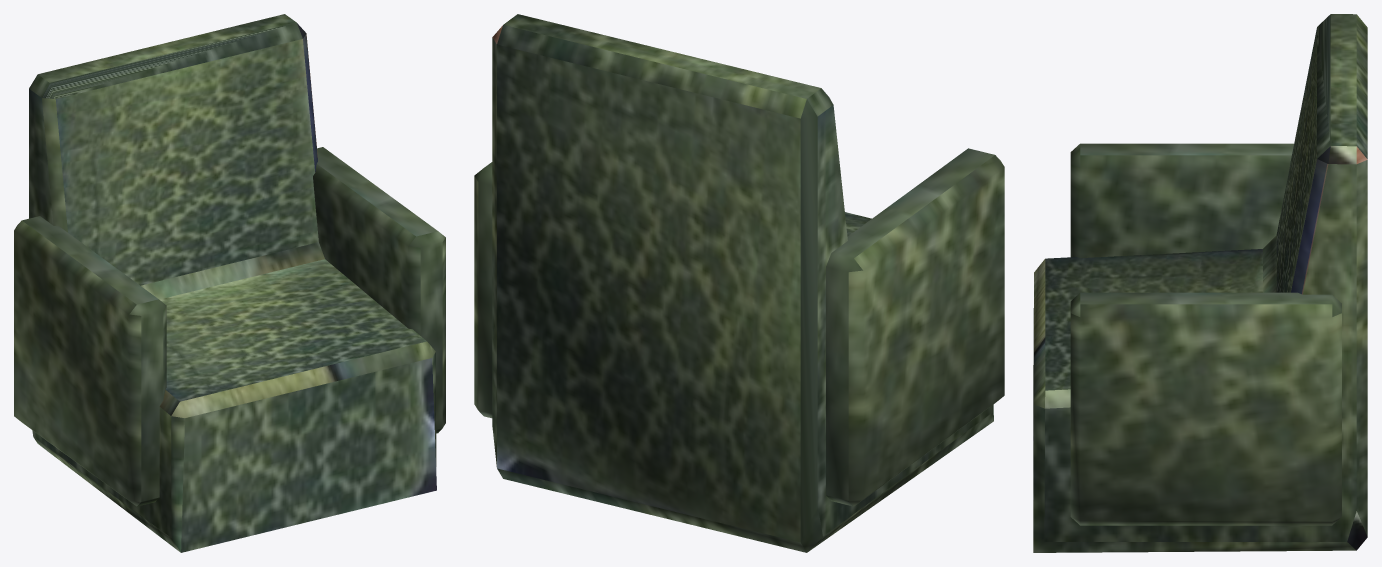
Rendered from armchair.glb.
3 renders of one model, left to right at view 1: azimuth 30°, elevation 25°; view 2: azimuth 150°, elevation 25°; view 3: azimuth 270°, elevation 25°, orthographic. The views are drawn at different scales.
Visible parts, largest first — view 1: Armchair, Armrests; view 2: Armchair, Armrests; view 3: Armrests, Armchair.
Part boxes in pixels (<box>): Armchair: <box>29,14,436,552</box>; Armrests: <box>14,147,445,506</box>; Armchair: <box>492,14,993,552</box>; Armrests: <box>474,148,1004,506</box>; Armrests: <box>1070,143,1341,525</box>; Armchair: <box>1033,14,1367,552</box>.
Size of the model in its own units: 0.7176 by 0.8005 by 0.6.
Materials: 1 (1 with a texture image).
